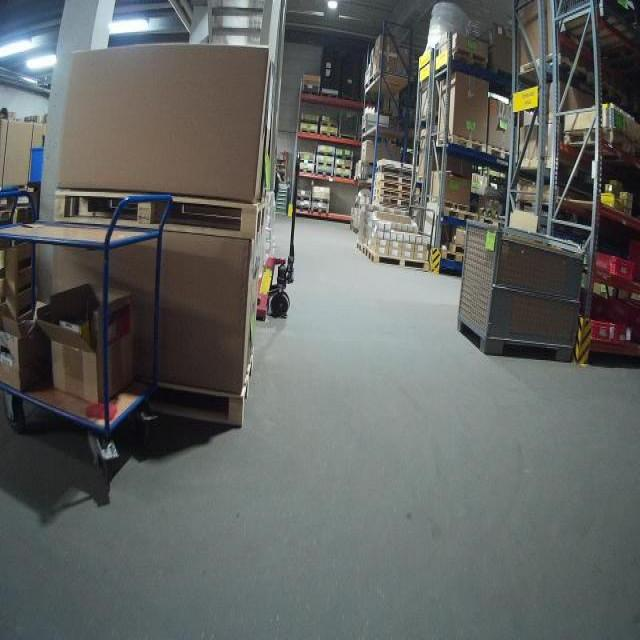pallet: (52, 185, 268, 243), (136, 354, 253, 431), (561, 127, 634, 155), (368, 247, 430, 274), (437, 133, 487, 155), (451, 43, 488, 63), (443, 206, 478, 225), (452, 51, 487, 69), (374, 160, 413, 173), (488, 144, 510, 165), (479, 215, 505, 231), (380, 198, 412, 211), (377, 172, 413, 183), (440, 248, 463, 263), (381, 190, 412, 199), (378, 183, 412, 191), (449, 241, 465, 254), (354, 239, 364, 255), (335, 153, 354, 161), (362, 242, 370, 259), (302, 89, 320, 96), (300, 117, 318, 124), (320, 121, 338, 128), (316, 170, 334, 177), (311, 207, 329, 214), (320, 130, 337, 137), (303, 83, 321, 89), (300, 128, 318, 134), (317, 152, 335, 158), (335, 164, 353, 170), (316, 161, 334, 167), (312, 197, 330, 203), (298, 159, 315, 165), (334, 173, 351, 179), (322, 92, 338, 98), (298, 168, 314, 174), (296, 196, 312, 202), (296, 206, 310, 212)
pallet_truck: (258, 151, 306, 329)
small_load_carrier: (593, 250, 638, 285), (610, 311, 635, 343), (578, 319, 617, 339)
stillage: (452, 215, 589, 363)
